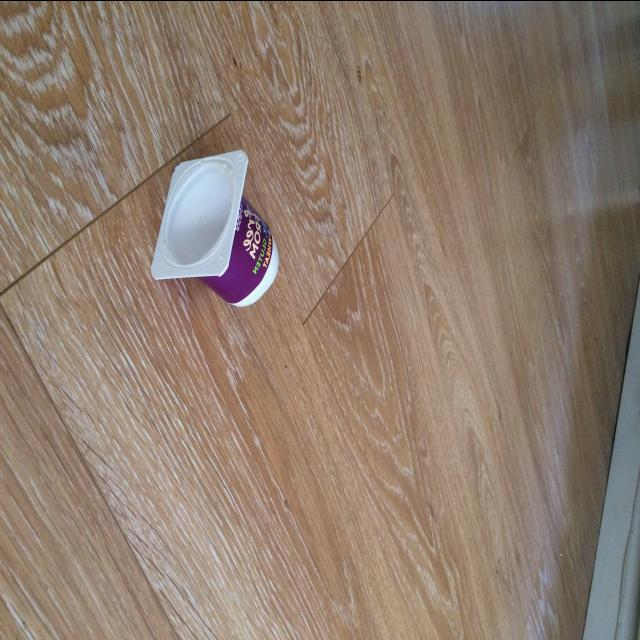Spread tub: (151, 148, 279, 306)
